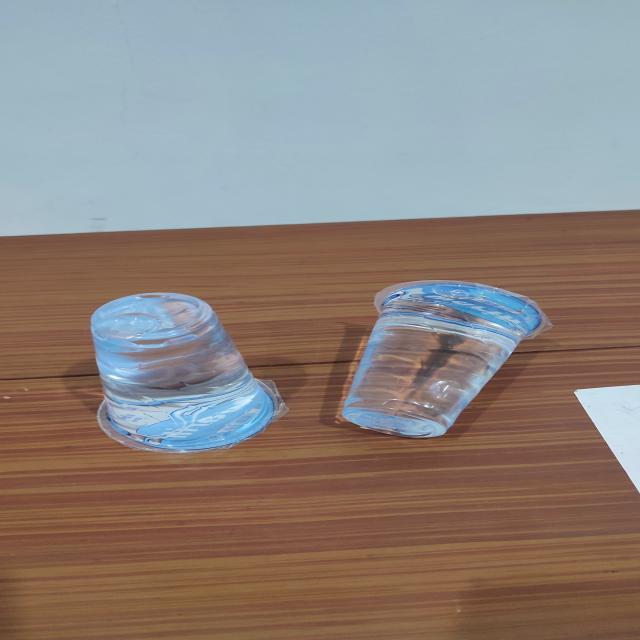air gelas: (331, 265, 557, 447), (79, 285, 290, 459)
